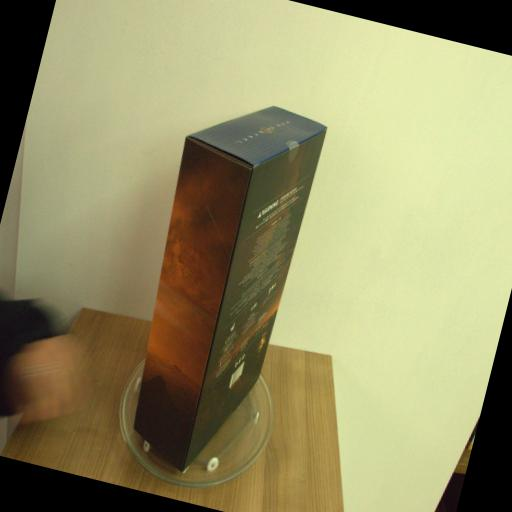superman: (107, 87, 329, 480)
